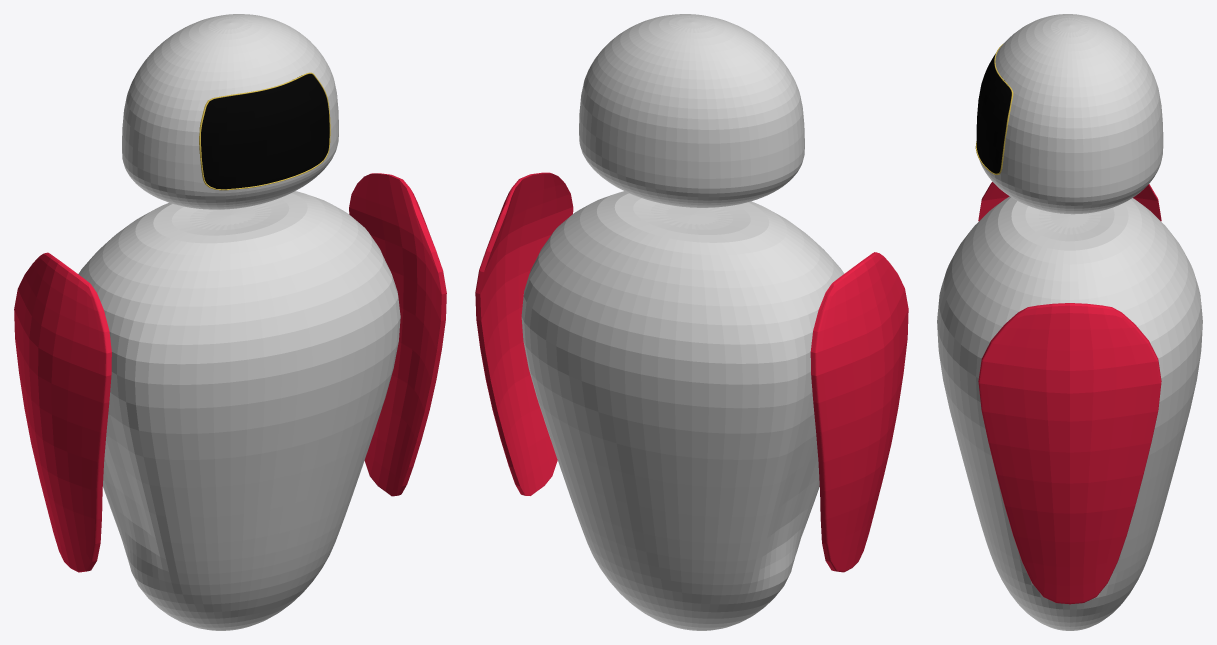
The model's file is Everard_float.fbx.
3 renders of one model, left to right at view 1: azimuth 30°, elevation 25°; view 2: azimuth 150°, elevation 25°; view 3: azimuth 270°, elevation 25°, orthographic.
Visible parts, largest first — view 1: Body, Head, Arm_Right, Arm_Left, Head_rim; view 2: Body, Head, Arm_Right, Arm_Left; view 3: Body, Arm_Left, Head, Arm_Right.
Boxes of the visible parts, x1,y1,x2,y2 form: Body: (78, 191, 400, 630); Head: (122, 14, 338, 209); Arm_Right: (14, 252, 111, 572); Arm_Left: (349, 173, 446, 496); Head_rim: (199, 72, 330, 190); Body: (521, 191, 843, 630); Head: (579, 14, 804, 207); Arm_Right: (810, 252, 908, 572); Arm_Left: (475, 172, 573, 495); Body: (937, 196, 1202, 630); Arm_Left: (978, 303, 1161, 604); Head: (976, 14, 1163, 214); Arm_Right: (978, 182, 1161, 221).
Bounding box in the file's own units: 204 × 305 × 123.
